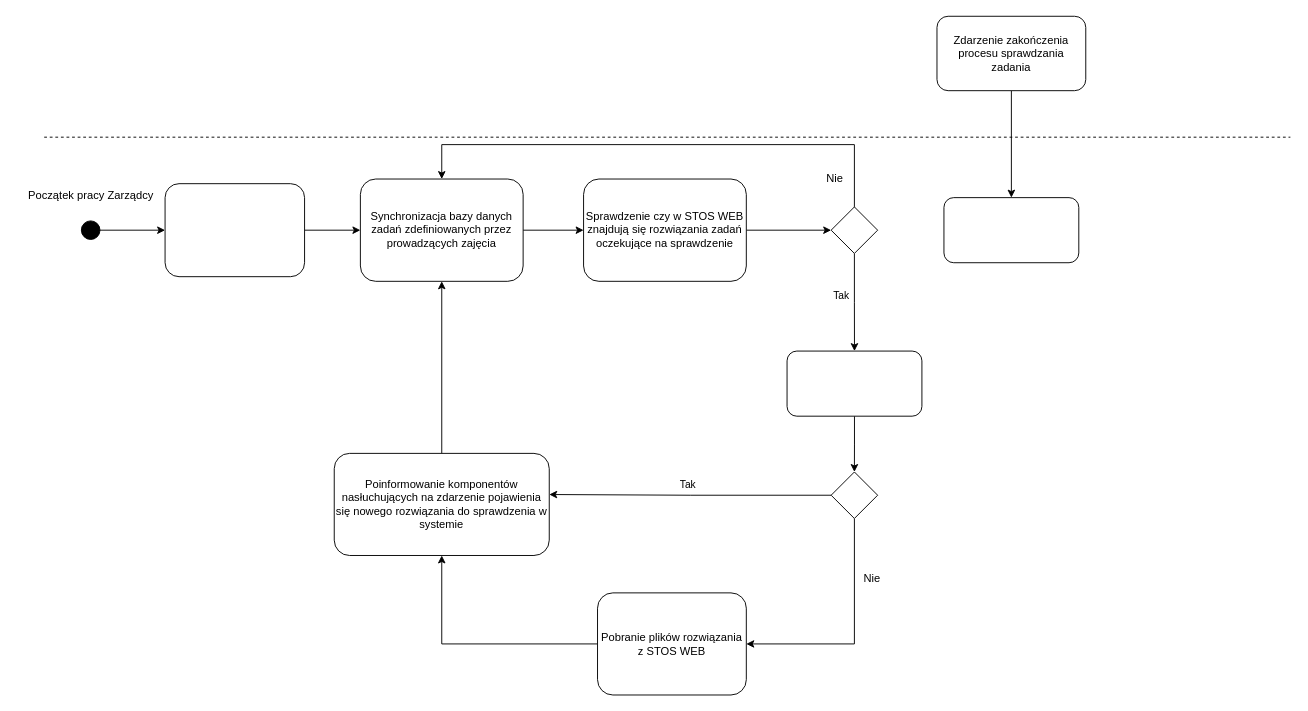
Some shapes in this 1308 by 711 pixel diagram are drawn without their labels. The shapes that lost their labels are listed below. From the top down, each one's centre as x and y in pixels, then its label:
At point (234, 230): "Inicjalizacja komponentu, sterownika api, systemu przechowywania plików, cache".
At point (1011, 230): "Wysłanie ocenionego zadania do STOS WEB".
At point (854, 383): "Sprawdzenie czy pliki rozwiązania znajdują się w systemie".
